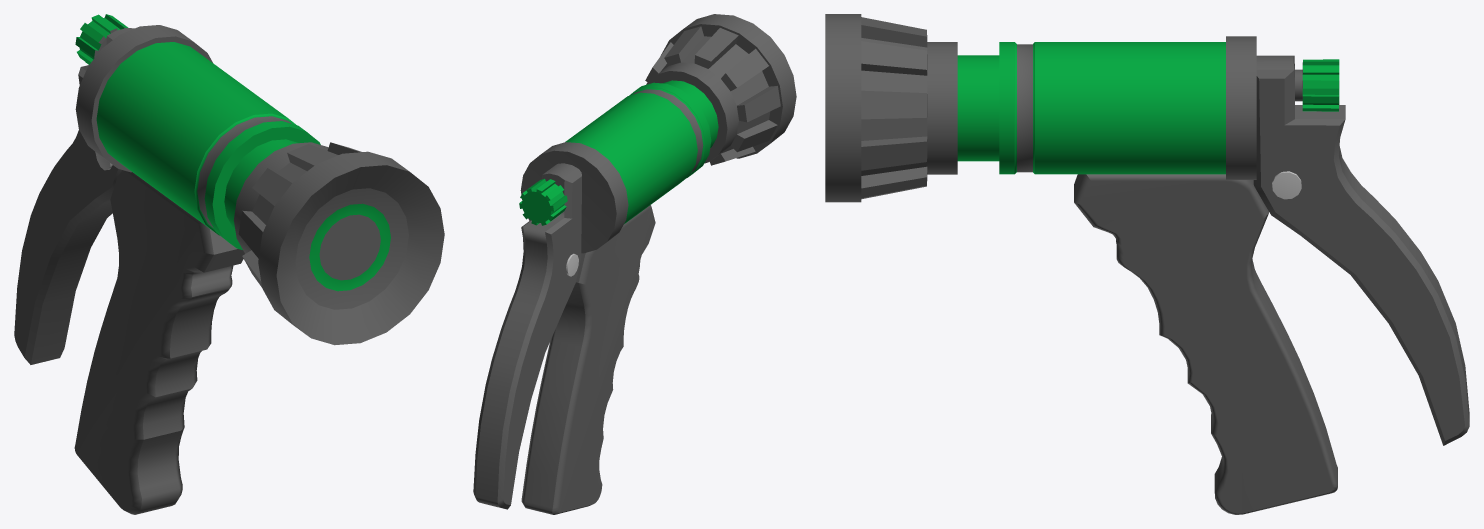
The model's file is Garden_Hose.fbx.
3 renders of one model, left to right at view 1: azimuth 30°, elevation 25°; view 2: azimuth 150°, elevation 25°; view 3: azimuth 270°, elevation 25°, orthographic. The views are drawn at different scales.
Parts seen in each view (by area): view 1: Grip, Nozzle_A, Body_A, Lever, Nozzle_B, Body_B, Spray_Control; view 2: Grip, Lever, Body_A, Nozzle_B, Body_B, Nozzle_A, Spray_Control; view 3: Grip, Body_A, Lever, Nozzle_B, Nozzle_A, Body_B, Spray_Control.
Boxes of the visible parts, left/top/right/bottom form: Grip: left=74, top=170, right=244, bottom=514; Nozzle_A: left=258, top=151, right=444, bottom=345; Body_A: left=96, top=42, right=320, bottom=249; Lever: left=14, top=28, right=134, bottom=364; Nozzle_B: left=234, top=142, right=361, bottom=287; Body_B: left=75, top=25, right=212, bottom=172; Spray_Control: left=75, top=14, right=128, bottom=64; Grip: left=521, top=205, right=655, bottom=514; Lever: left=473, top=163, right=581, bottom=509; Body_A: left=565, top=80, right=718, bottom=223; Nozzle_B: left=645, top=26, right=780, bottom=165; Body_B: left=520, top=142, right=628, bottom=253; Nozzle_A: left=661, top=14, right=796, bottom=158; Spray_Control: left=519, top=178, right=567, bottom=225; Grip: left=1074, top=174, right=1337, bottom=514; Body_A: left=957, top=42, right=1225, bottom=174; Lever: left=1253, top=55, right=1469, bottom=445; Nozzle_B: left=861, top=17, right=957, bottom=199; Nozzle_A: left=825, top=14, right=861, bottom=202; Body_B: left=1226, top=36, right=1256, bottom=179; Spray_Control: left=1295, top=59, right=1339, bottom=111.
Size of the model in its own units: 7.73 by 21.77 by 26.24.
